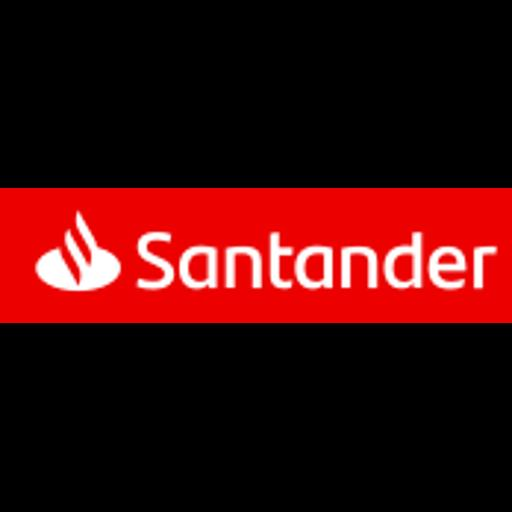Grupo Santander: (0, 188, 512, 323)
